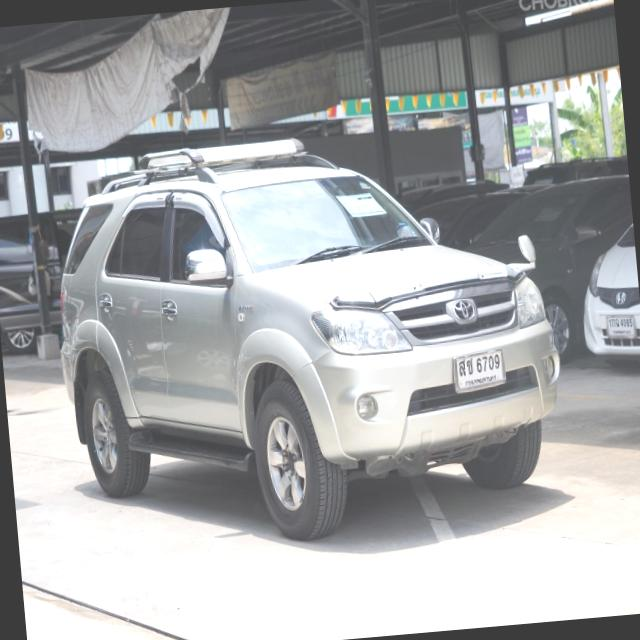license_plate: (449, 345, 510, 398), (604, 310, 637, 340)
